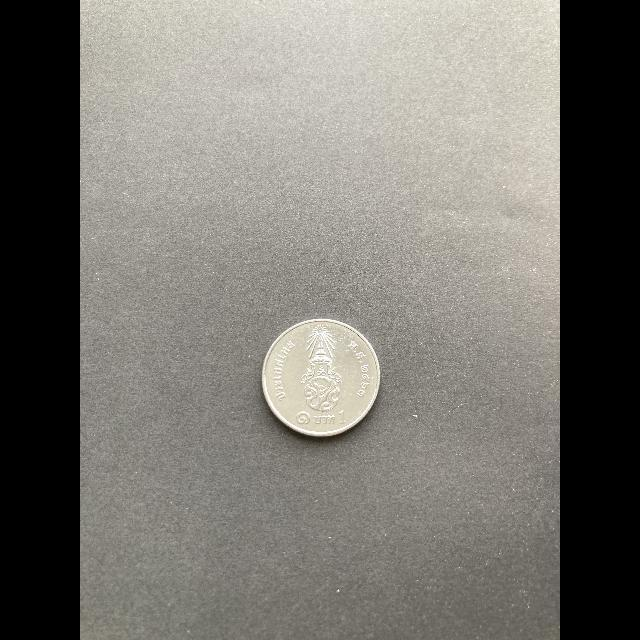1 Bath: (261, 314, 385, 444)
